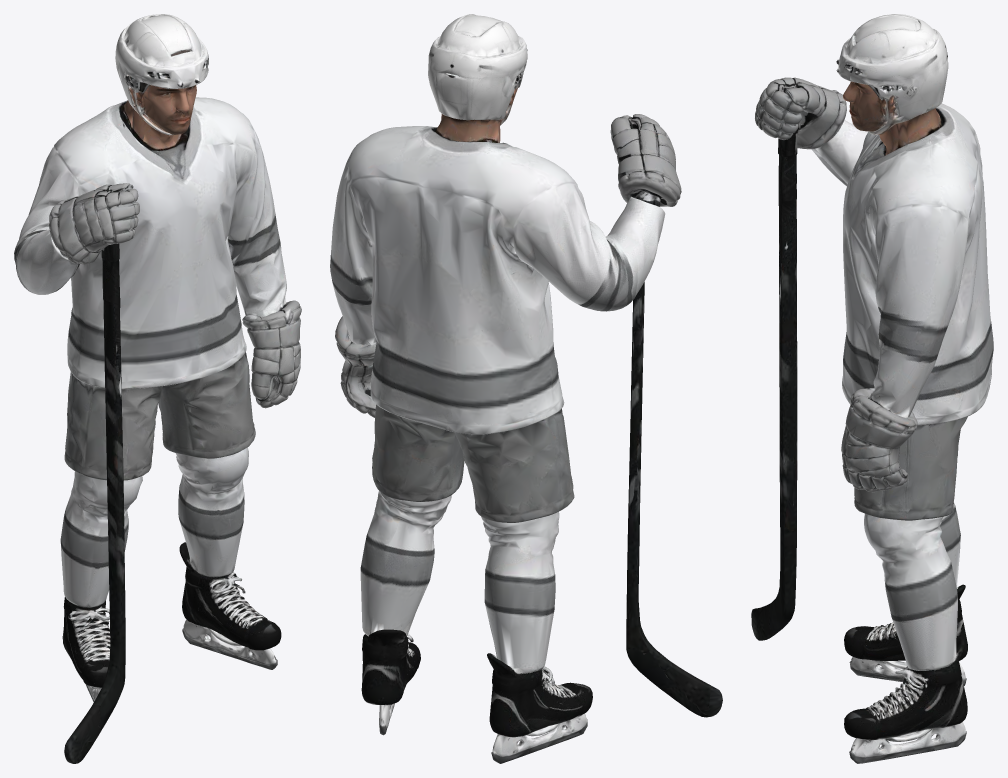
Rendered from standing_mid.glb.
3 views of the same model, side by side, from view 1: azimuth 30°, elevation 25°; view 2: azimuth 150°, elevation 25°; view 3: azimuth 270°, elevation 25° (orthographic). The views are drawn at different scales.
Size of the model in its own units: 0.8912 by 1.9 by 0.6011.
Materials: 1 (1 with a texture image).
